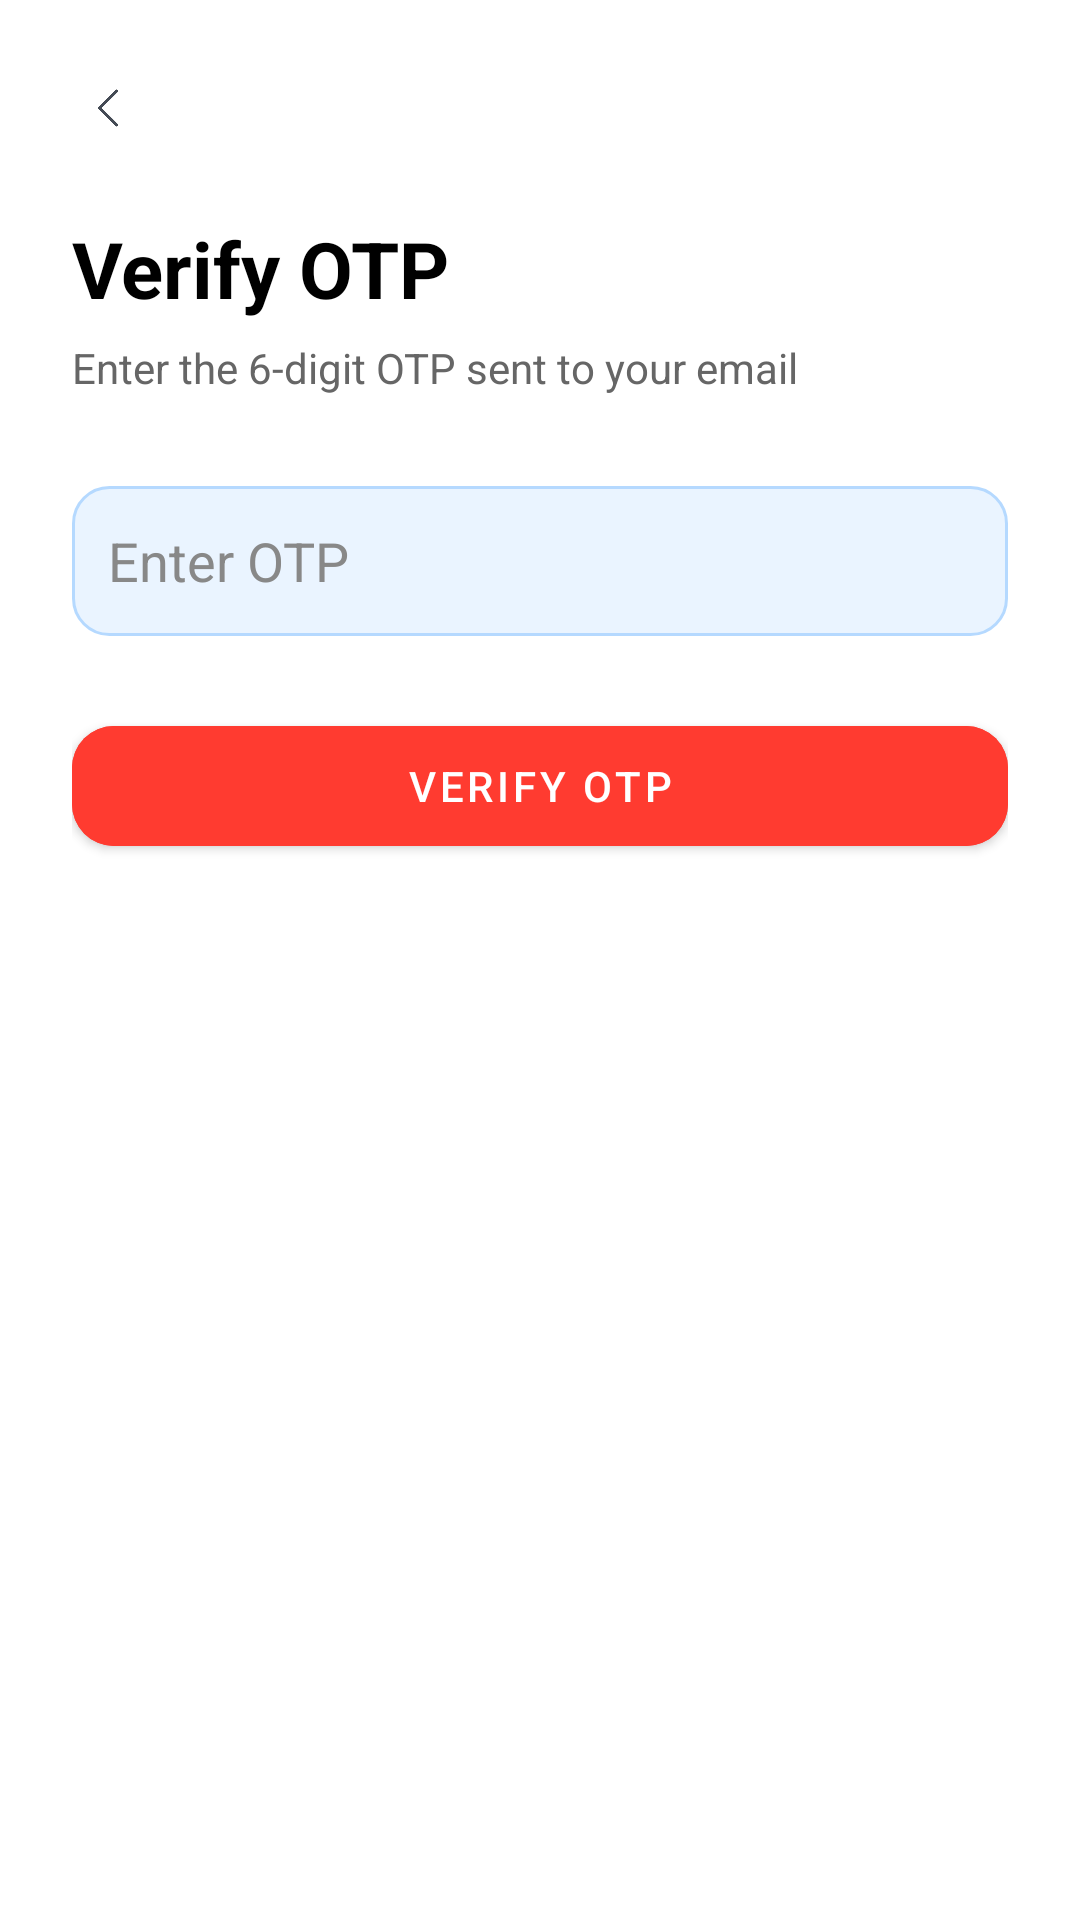

Named icons in this screenshot (1080px×1920px) and their bounding boxes, (x1, y1, x2, y2):
back: (98, 89, 118, 127)
